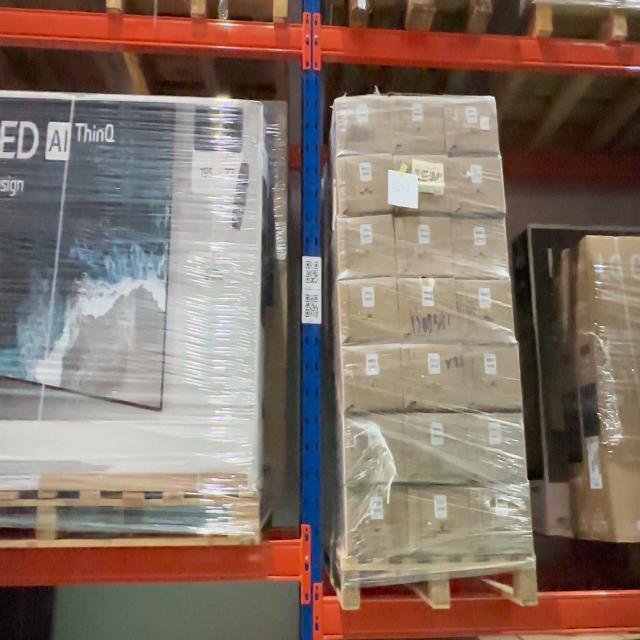box: (1, 90, 259, 482), (404, 409, 468, 480), (471, 481, 531, 553), (348, 487, 406, 556), (410, 490, 470, 556), (347, 416, 402, 482), (345, 348, 401, 410), (470, 416, 523, 481), (342, 282, 398, 342), (399, 281, 454, 342), (340, 218, 396, 277), (408, 350, 460, 409), (339, 158, 392, 214), (460, 282, 511, 340), (469, 347, 517, 408), (399, 219, 451, 275), (454, 220, 506, 276), (395, 159, 448, 213), (338, 98, 389, 154), (393, 98, 442, 153), (446, 101, 496, 153), (452, 160, 501, 213)
